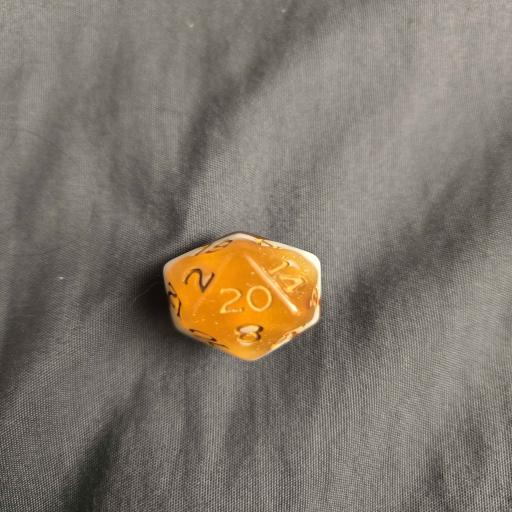twenty sided dice: (164, 231, 322, 360)
